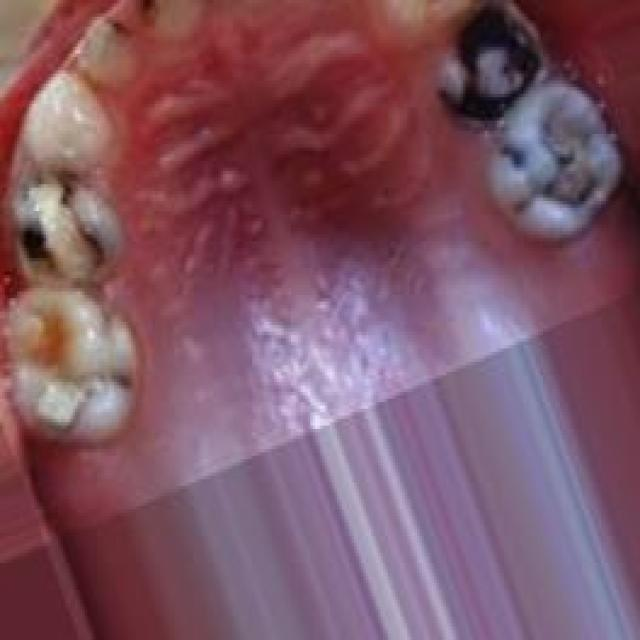caries: (490, 85, 614, 242), (18, 297, 138, 427), (13, 159, 117, 296), (434, 0, 532, 120), (121, 0, 174, 49)
